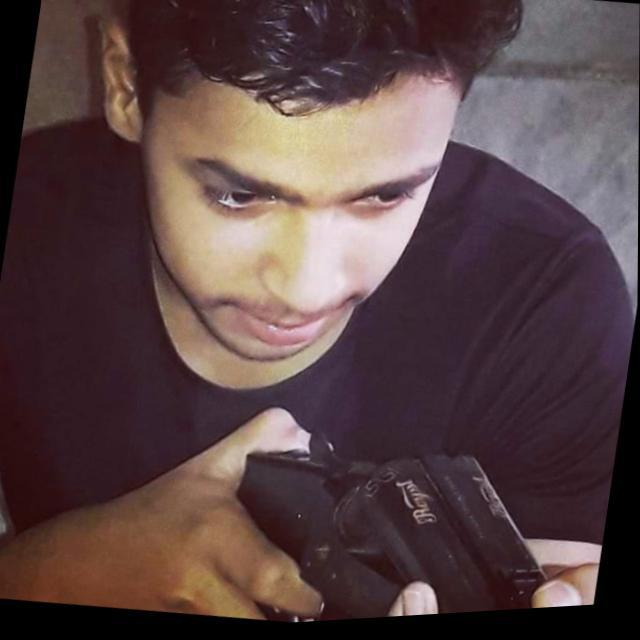weapon: (206, 418, 614, 630)
